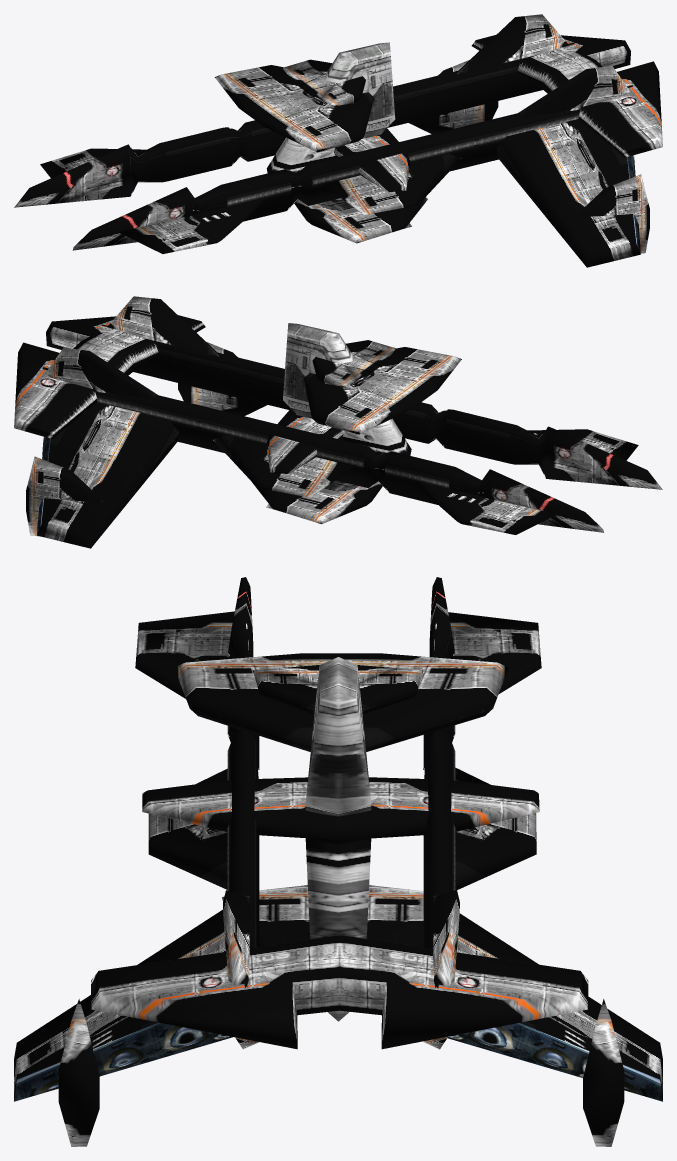
Rendered from ptve01a.obj.
The picture shows the model from 3 angles, top to bottom: view 1: azimuth 30°, elevation 25°; view 2: azimuth 150°, elevation 25°; view 3: azimuth 270°, elevation 25°; orthographic projection. The views are drawn at different scales.
Parts seen in each view (by area): view 1: PTVE_SHT10; view 2: PTVE_SHT10; view 3: PTVE_SHT10, PTVE_EX0.
Part boxes in pixels (x1,y1,x2,y2): PTVE_SHT10: (14,14,662,267); PTVE_SHT10: (14,296,662,548); PTVE_SHT10: (14,577,662,1146); PTVE_EX0: (14,1022,662,1101).
Bounding box in the file's own units: 143 × 43.95 × 82.33.
2 materials, 2 textured.
